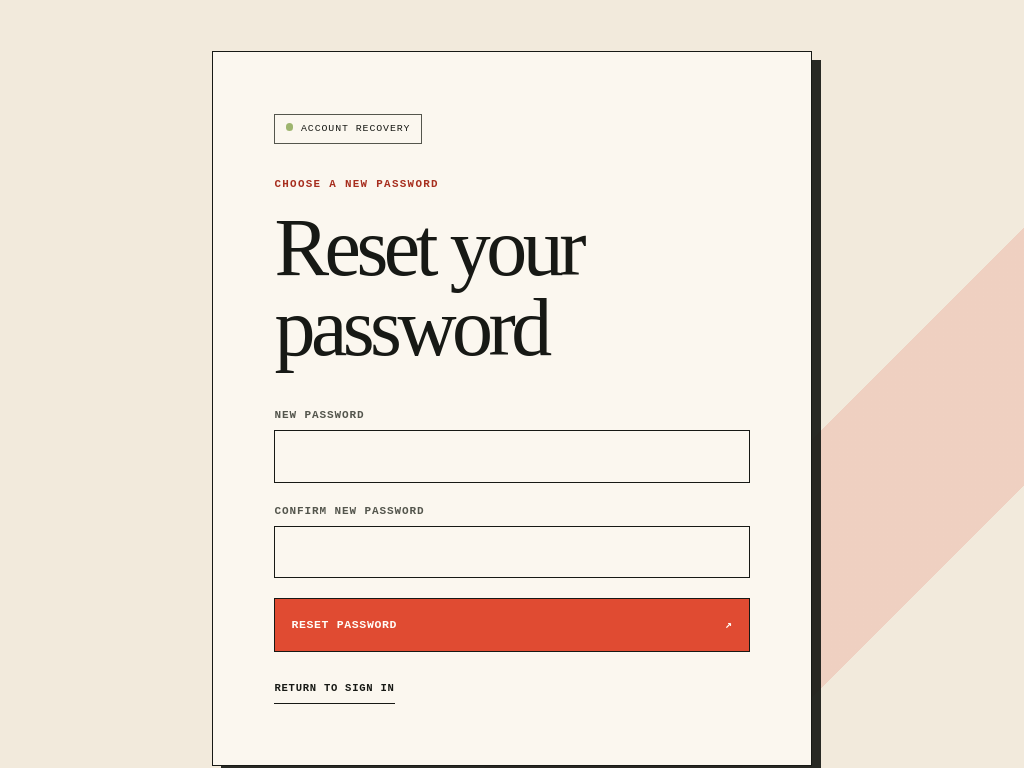
Scenario: AI project workshop › removes the reset token fragment before confirmation and posts it only on user action
In the password field labelled "New password": [512, 456] box [274,430,750,483], type "UpdatedPassword123!"
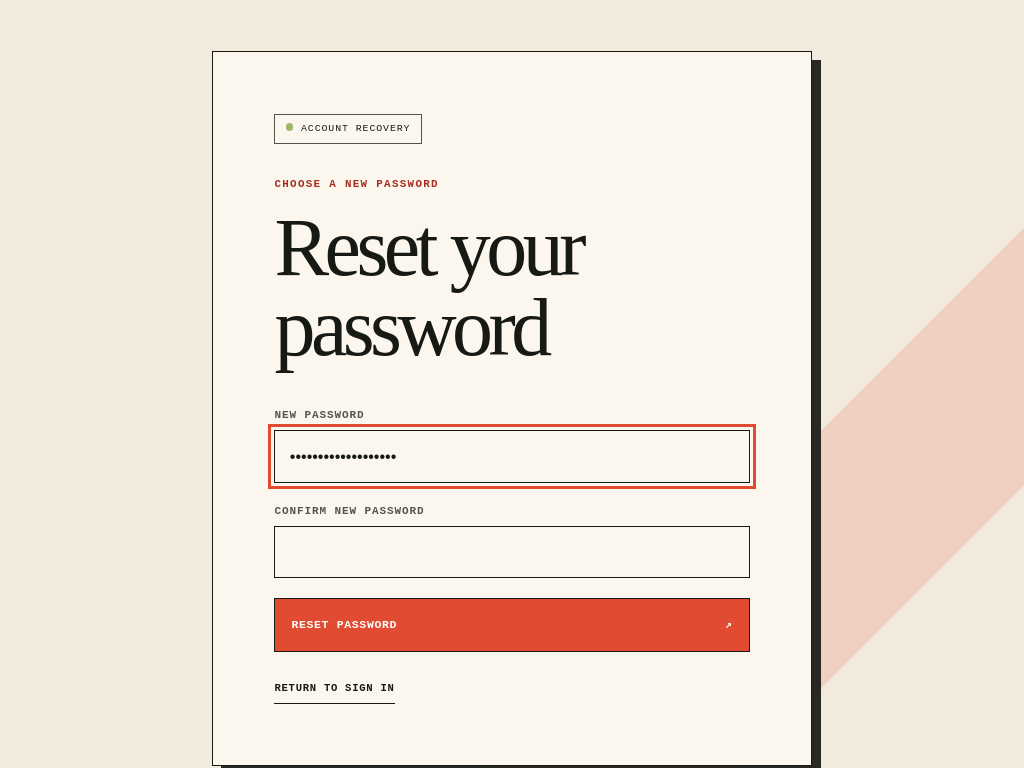
In the password field labelled "Confirm new password": [512, 552] box [274,526,750,578], type "UpdatedPassword123!"
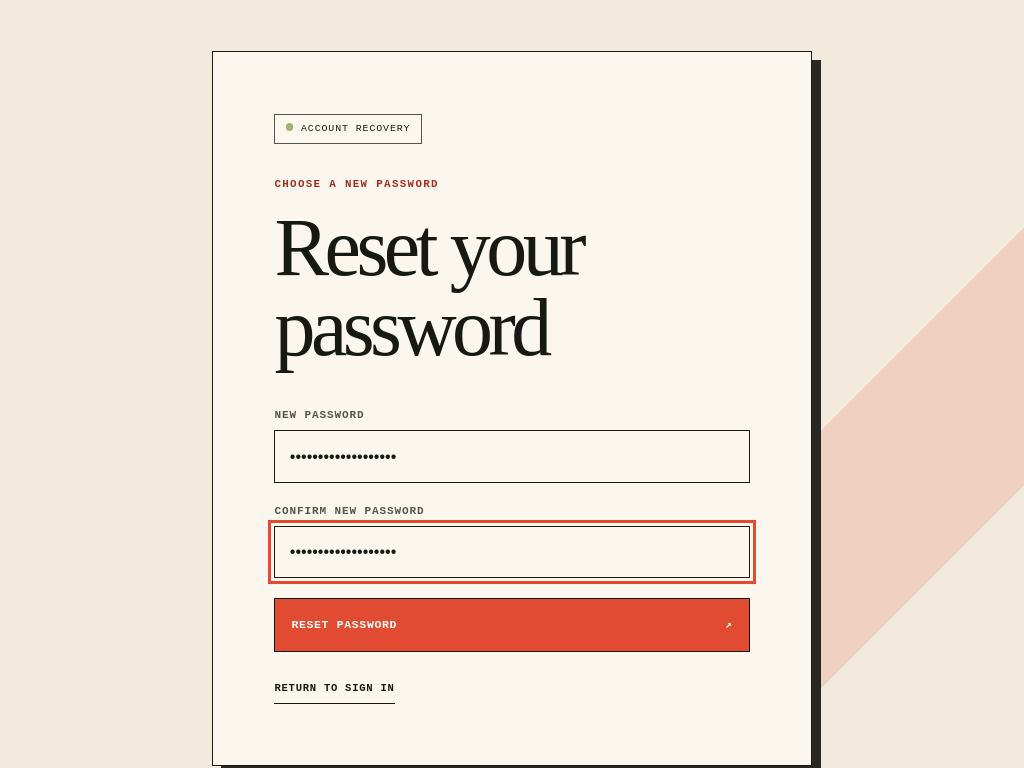
Click the button "Reset password ↗": [344, 625] box [274,598,750,652]
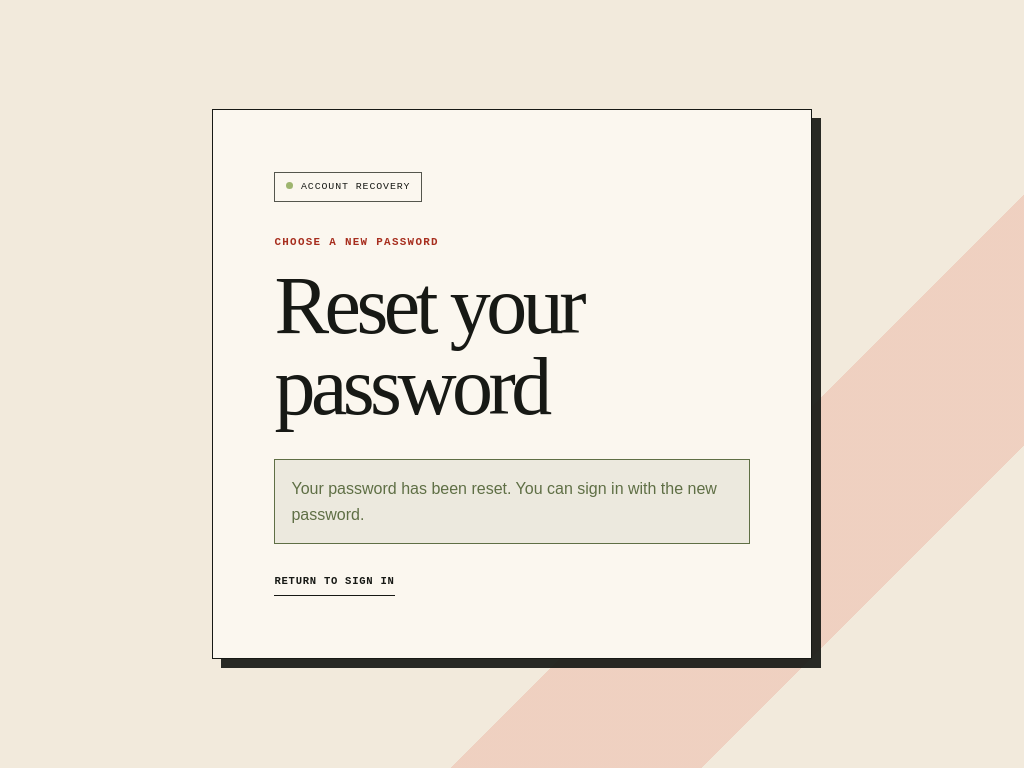
Check: the message reads "Your password has been reset. You can sign in with the new password.", box [291,480,717,523]
